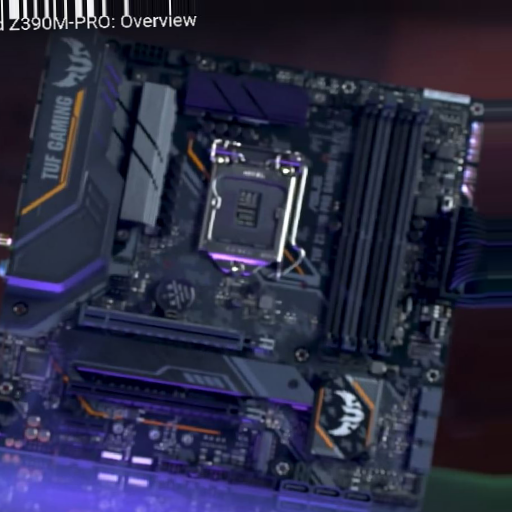CPU: (200, 137, 301, 277)
GPU: (77, 302, 277, 358), (62, 377, 271, 427)
MOTHERBOARD: (1, 42, 473, 501)
RAM: (317, 95, 431, 362)
SSD: (254, 431, 273, 475)
